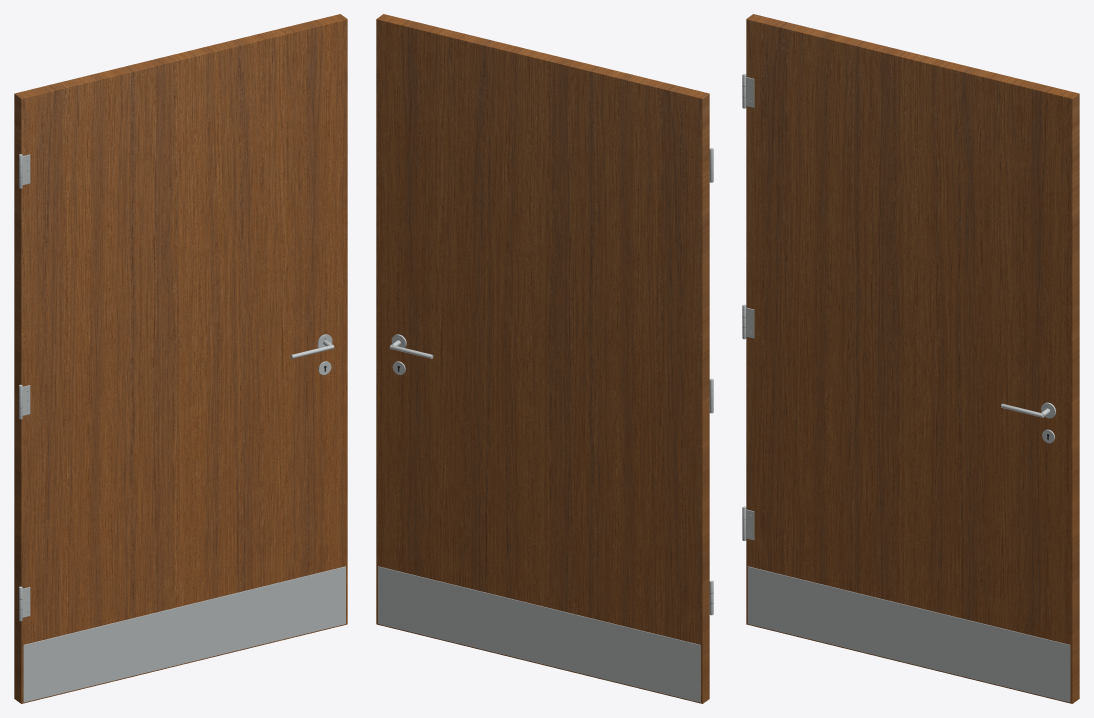
The model's file is clubhouse_door_interior_1185.glb.
3 renders of one model, left to right at view 1: azimuth 30°, elevation 25°; view 2: azimuth 150°, elevation 25°; view 3: azimuth 330°, elevation 25°, orthographic.
Visible parts, largest first — view 1: ReferenceMatchedSatinTimber, BrushedStainlessSteel; view 2: ReferenceMatchedSatinTimber, BrushedStainlessSteel; view 3: ReferenceMatchedSatinTimber, BrushedStainlessSteel.
Boxes of the visible parts, x1,y1,x2,y2 form: ReferenceMatchedSatinTimber: (14,14,347,703); BrushedStainlessSteel: (19,154,345,702); ReferenceMatchedSatinTimber: (376,14,709,703); BrushedStainlessSteel: (378,148,713,702); ReferenceMatchedSatinTimber: (746,14,1079,703); BrushedStainlessSteel: (742,74,1070,702).
Size of the model in its own units: 1.2 by 2.1 by 0.1494.
Materials: 3 (1 with a texture image).
